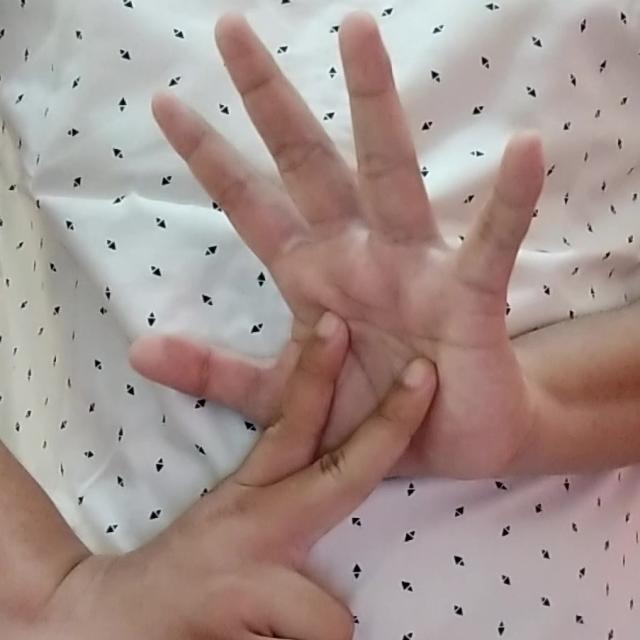N: (119, 0, 558, 557)
